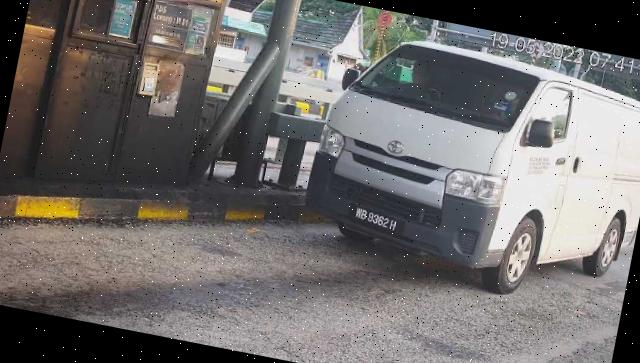License_Plate: (353, 205, 406, 237)
van: (294, 24, 640, 317)
